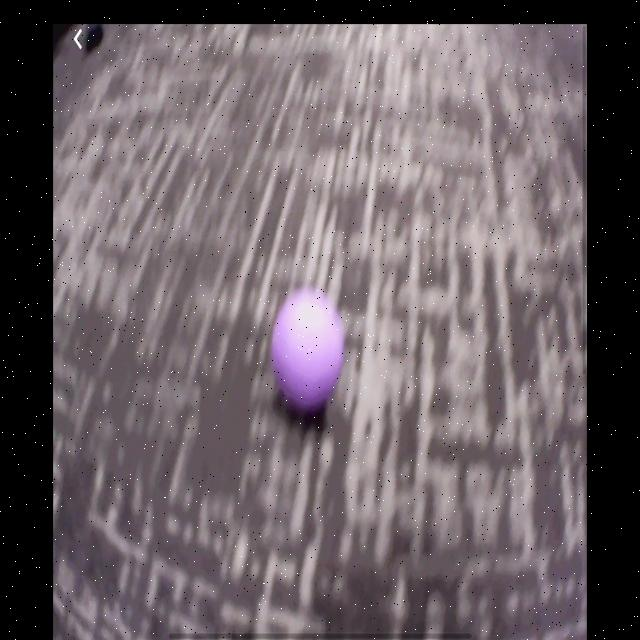ball: (271, 285, 347, 417)
